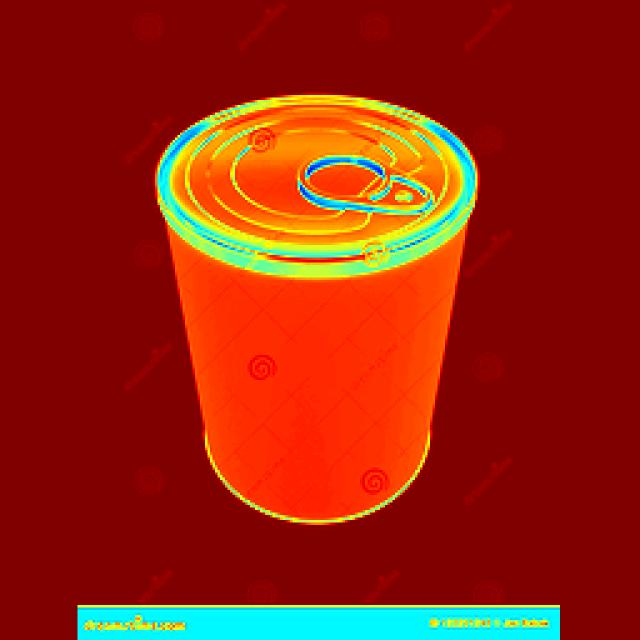Aluminium Food Cans: (154, 70, 493, 561)
